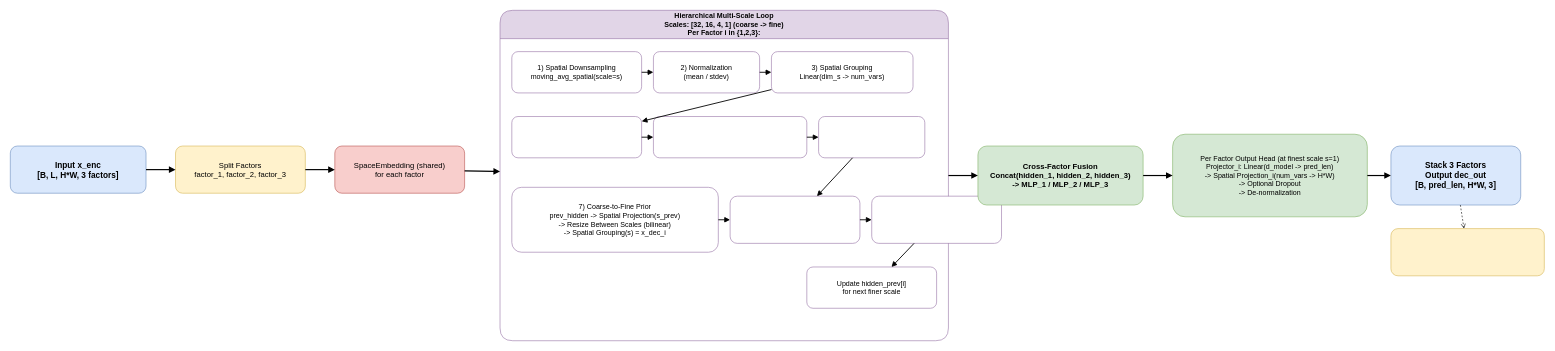
This 1555x351 diagram has some shape labels left out. The centre of each missing label's shape, as x and y in pixels:
"4) Token Ocean Masking _compute_token_ocean_ratio" goes at pixel 576 137.
"5) Spatial Dropout + Permute [B, L, num_vars] -> [B, num_vars, L]" goes at pixel 730 137.
"6) DataEmbedding_inverted_i" goes at pixel 871 137.
"8) Scale Fusion Linear([enc_embed || x_dec_i])" goes at pixel 795 219.
"9) iTransformer Encoder_i (FullAttention + EncoderLayer x e_layers)" goes at pixel 936 219.
"Optional: output_attention return attns_one from factor_1 at finest scale" goes at pixel 1467 252.
